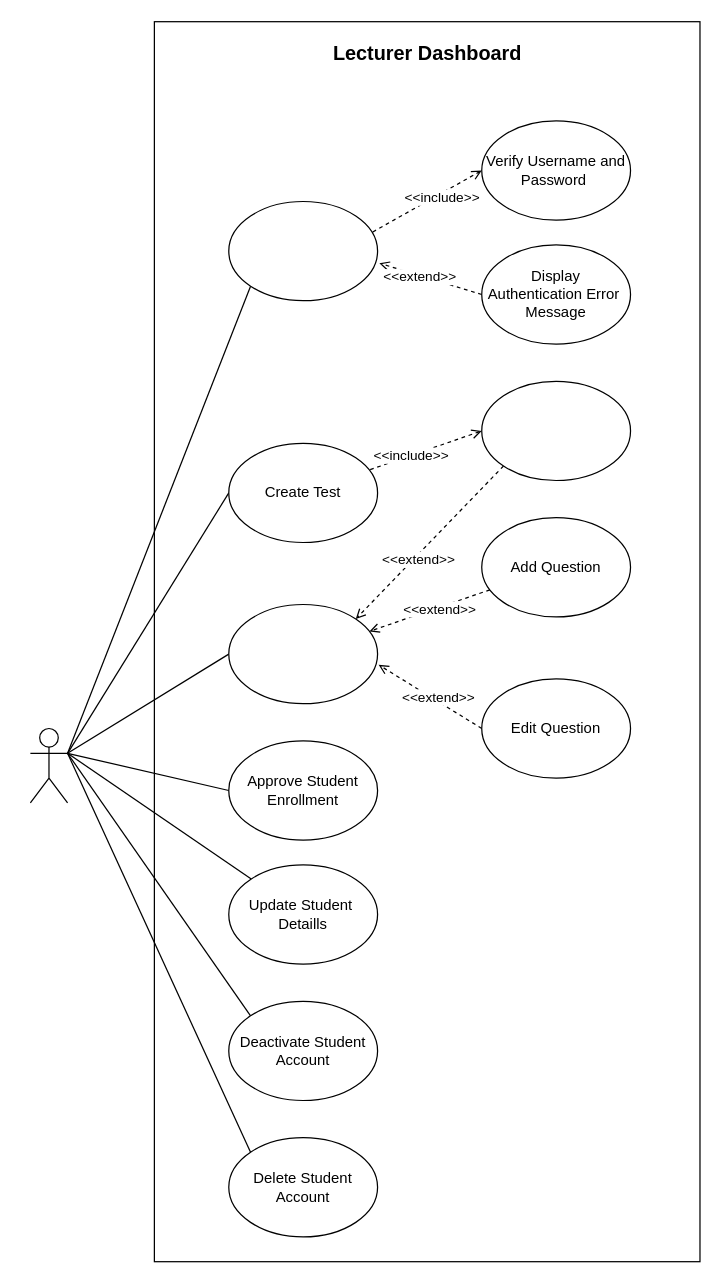
Image size: 722x1283. Some labels were removed from this diagram. The centre of each missing label's shape, as x and y in pixels:
Configure Test: the point at 303,653
Lecturer: the point at 48,765
Login: the point at 303,250
Set Test Name and Subject: the point at 555,430
